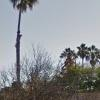Palm tree: (10, 0, 31, 93)
